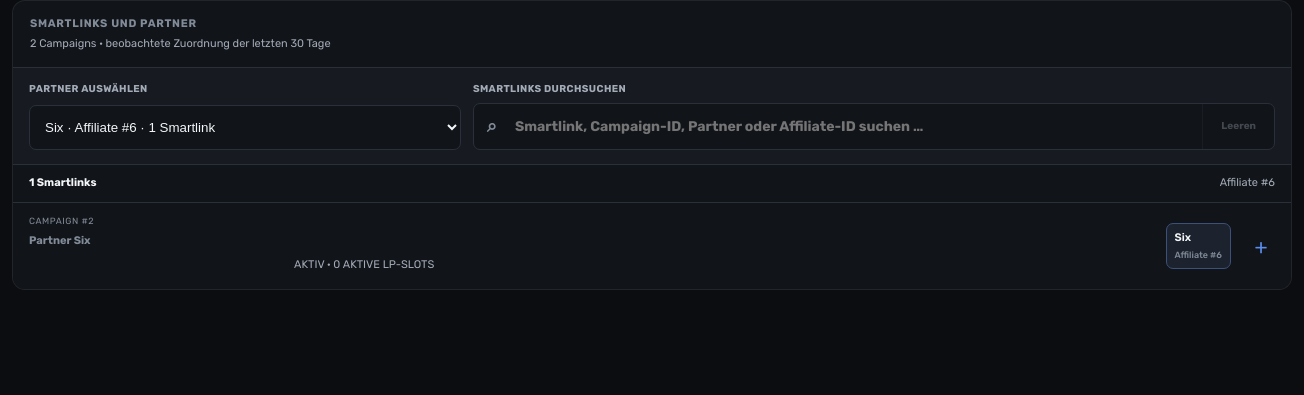
it: allows all-partner selection without losing the surrounding affiliate and date context
Select "Alle Partner · 2 Smartlinks" in the dropdown labelled "Partner auswählen". click: x=245, y=127
box: [29,104,461,150]
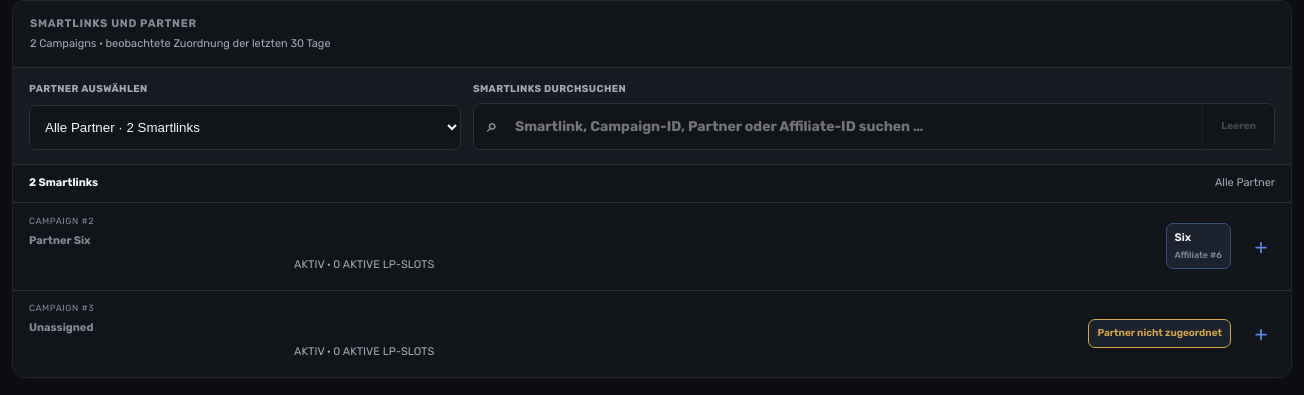
expect the text "Unassigned" is shown: met, box [29,320,93,334]
